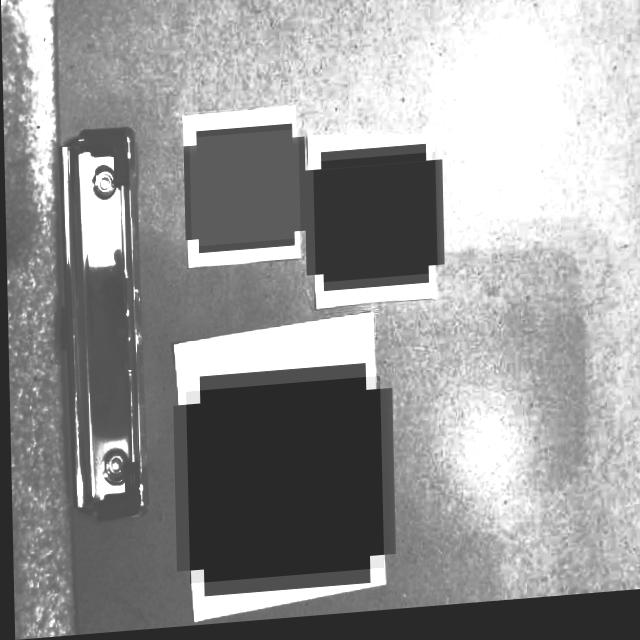qr_code: (183, 382, 380, 587), (311, 159, 435, 288), (188, 134, 299, 250)
